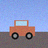vehicle: (10, 20, 35, 39)
